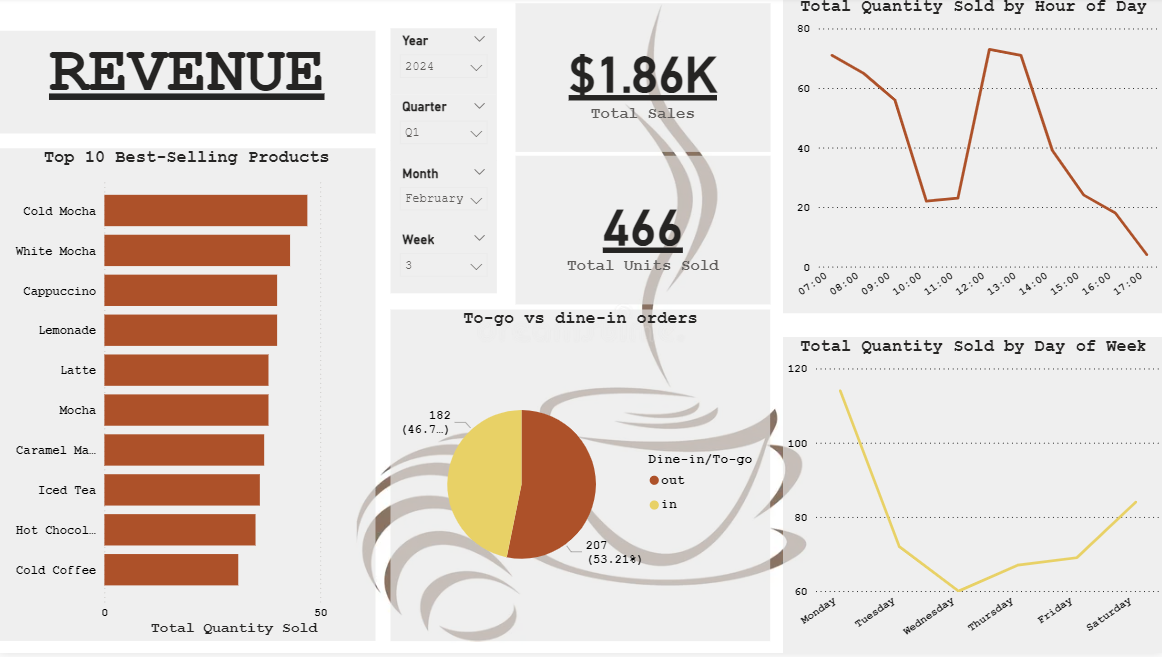

This screenshot's page, from the dashboard's own definition file:
{"tool":"powerbi","page":{"name":"Revenue","canvas":[1280,720],"ordinal":0},"visuals":[{"type":"card","title":"asdas","fields":{"Values":["orders.Total Sales"]},"box":[568.1,6.9,279.9,163.3],"z":0},{"type":"card","fields":{"Values":["Sum(orders.quantity)"]},"box":[568.1,174.3,279.9,163.3],"z":1000},{"type":"clusteredBarChart","title":"Top 10 Best-Selling Products","fields":{"Category":["items.item_name"],"Y":["Sum(orders.quantity)"]},"box":[0,166,414.4,540.7],"z":2000},{"type":"lineChart","title":"Total Quantity Sold by Day of Week","fields":{"Y":["Sum(orders.quantity)"],"Category":["orders.DayOfWeek"]},"box":[861.8,373.2,418.5,347.2],"z":3000},{"type":"lineChart","title":"Total Quantity Sold by Hour of Day","fields":{"Y":["Sum(orders.quantity)"],"Category":["orders.HourLabel"]},"box":[861.8,0,418.5,347.2],"z":4000},{"type":"pieChart","title":"To-go vs dine-in orders","fields":{"Category":["orders.in_or_out"],"Y":["Count(orders.order_id)"]},"box":[430.9,343.1,417.2,363.6],"z":5000},{"type":"slicer","fields":{"Values":["orders.Year"]},"box":[430.9,34.3,116.6,72.7],"z":6000},{"type":"slicer","fields":{"Values":["orders.Quarter"]},"box":[430.9,107,116.6,72.7],"z":7000},{"type":"slicer","fields":{"Values":["orders.Month"]},"box":[430.9,179.8,116.6,72.7],"z":8000},{"type":"slicer","fields":{"Values":["orders.WeekOfMonth"]},"box":[430.9,252.5,116.6,72.7],"z":9000},{"type":"textbox","box":[0,37,414.4,112.5],"z":10000}]}

Visuals, with their boxes in screenshot pixels (x1, y1, x2, y2), scaled from the page's 1280x720 canvas onto the 1162x657 screenshot:
"asdas" card: region(516, 6, 770, 155)
card - Sum(orders.quantity): region(516, 159, 770, 308)
"Top 10 Best-Selling Products" clusteredBarChart: region(0, 151, 376, 645)
"Total Quantity Sold by Day of Week" lineChart: region(782, 341, 1161, 656)
"Total Quantity Sold by Hour of Day" lineChart: region(782, 0, 1161, 317)
"To-go vs dine-in orders" pieChart: region(391, 313, 770, 645)
slicer - orders.Year: region(391, 31, 497, 98)
slicer - orders.Quarter: region(391, 98, 497, 164)
slicer - orders.Month: region(391, 164, 497, 230)
slicer - orders.WeekOfMonth: region(391, 230, 497, 297)
textbox: region(0, 34, 376, 136)
